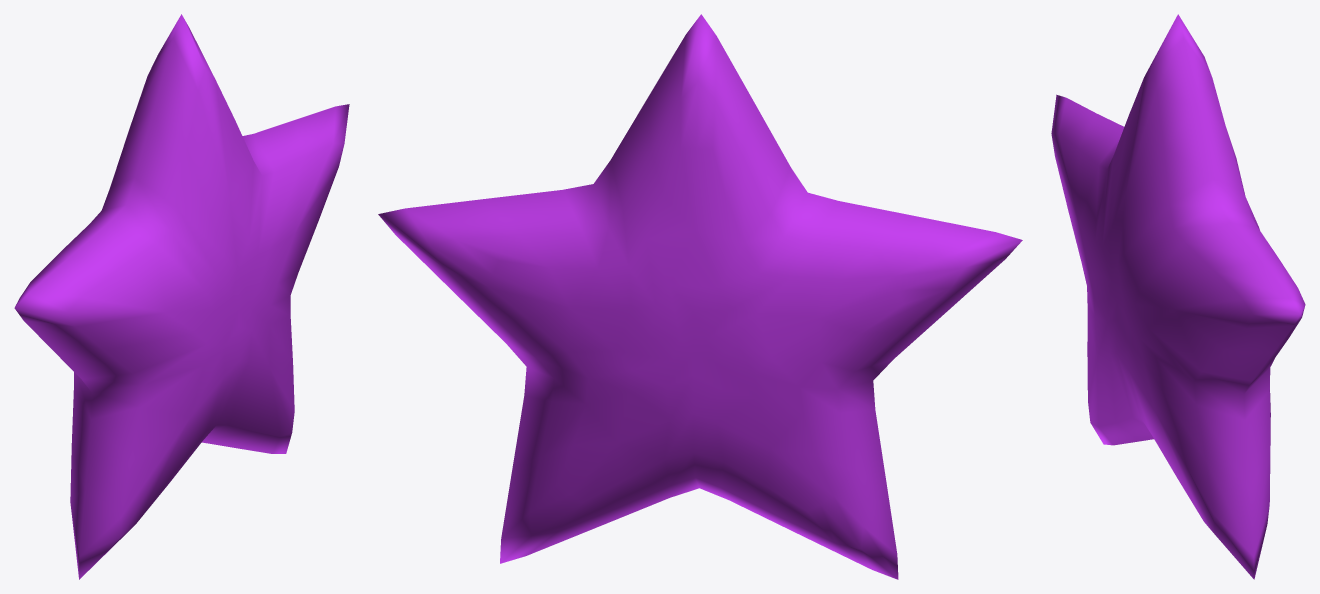
Rendered from Star.glb.
The picture shows the model from 3 angles, left to right: view 1: azimuth 30°, elevation 25°; view 2: azimuth 150°, elevation 25°; view 3: azimuth 270°, elevation 25°; orthographic projection. The views are drawn at different scales.
Visible parts, largest first — view 1: star_02; view 2: star_02; view 3: star_02.
Part boxes in pixels (x1=…): star_02: x1=14, y1=14, x2=349, y2=579; star_02: x1=378, y1=14, x2=1022, y2=579; star_02: x1=1051, y1=14, x2=1305, y2=579.
Size of the model in its own units: 0.6428 by 0.6753 by 0.3122.
